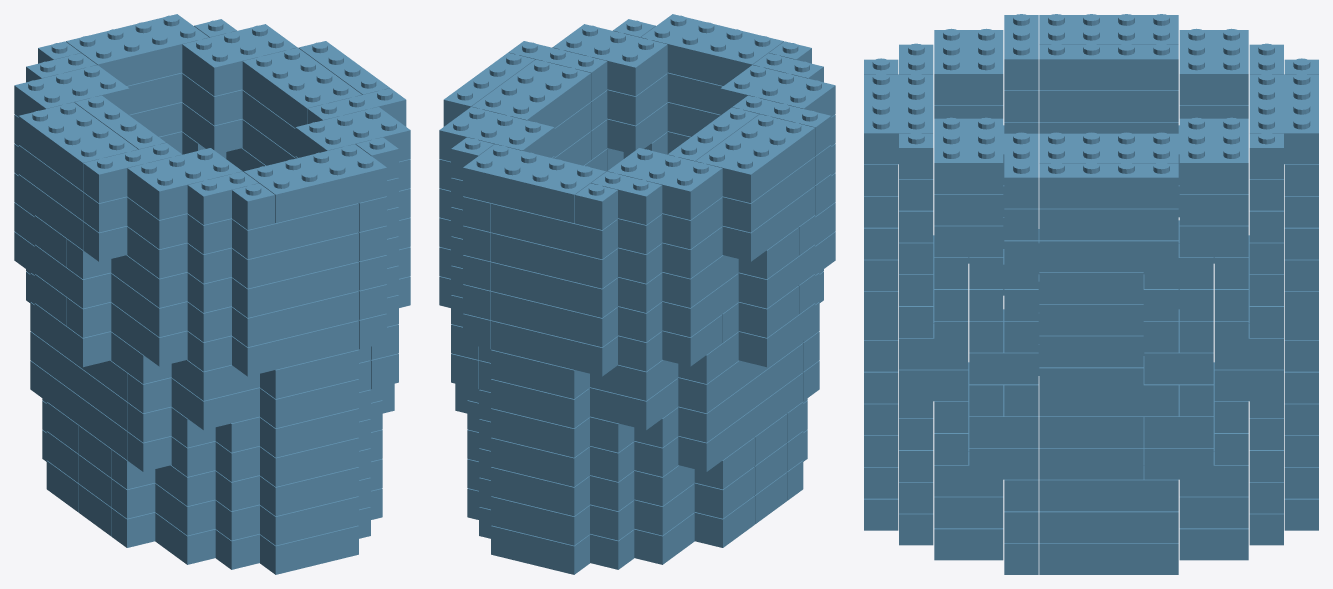
The model's file is 184_mug_L4.glb.
3 views of the same model, side by side, from view 1: azimuth 30°, elevation 25°; view 2: azimuth 150°, elevation 25°; view 3: azimuth 270°, elevation 25° (orthographic). The views are drawn at different scales.
Bounding box in the file's own units: 10.98 × 13.13 × 12.98.
